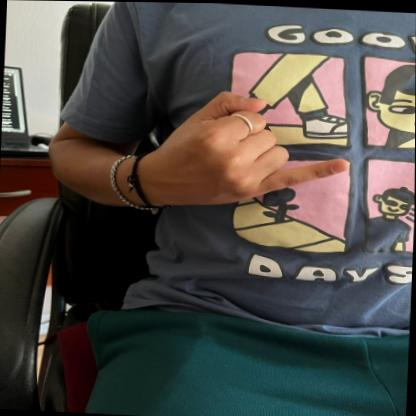J: (148, 83, 356, 209)
